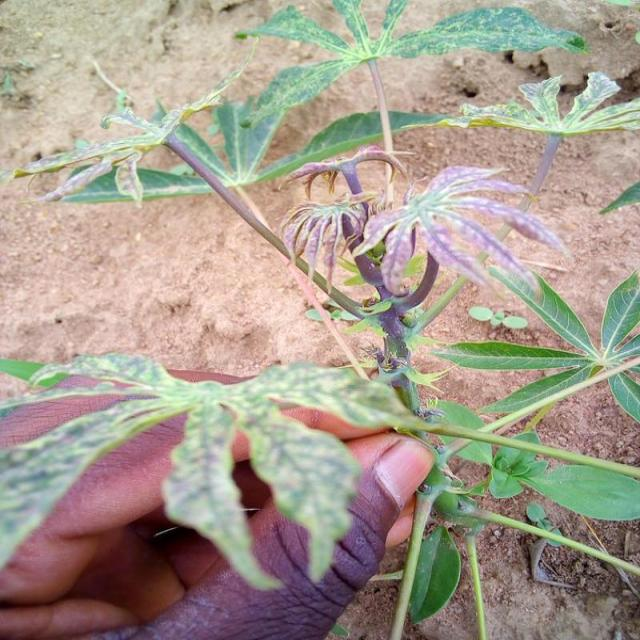cassava leaf: (0, 351, 425, 592), (406, 524, 461, 624)
